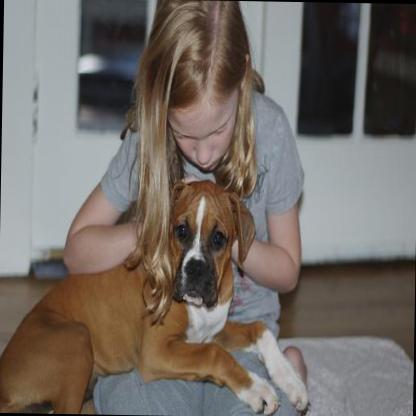boxer: (0, 174, 311, 415)
